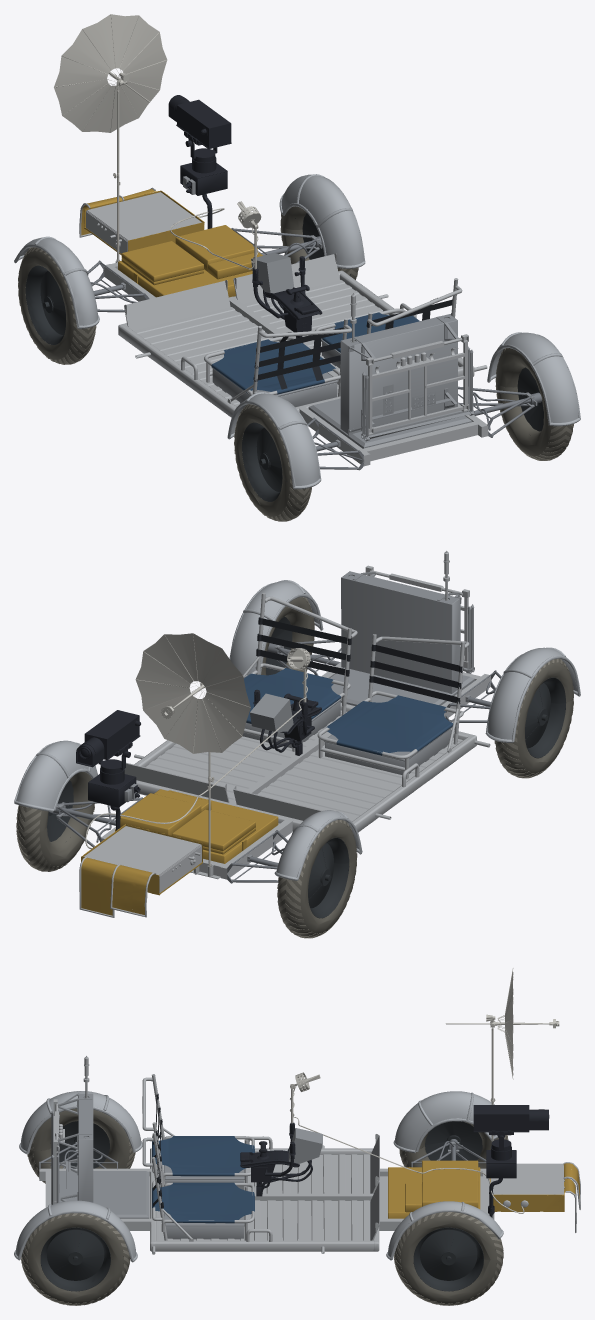
The model's file is rover.glb.
3 views of the same model, one above another, from view 1: azimuth 30°, elevation 25°; view 2: azimuth 150°, elevation 25°; view 3: azimuth 270°, elevation 25° (orthographic). The views are drawn at different scales.
Parts seen in each view (by area): view 1: Body, spin_fl, spin_rl, spin_rr, fender_fr, fender_rr, fender_rl, fender_fl, spin_fr; view 2: Body, spin_fl, spin_rl, spin_fr, fender_rl, fender_fr, fender_rr, fender_fl, spin_rr; view 3: Body, spin_fr, spin_rr, spin_rl, fender_fl, spin_fl, fender_rl, fender_rr, fender_fr.
Boxes of the visible parts, bbox=[...] form: Body: bbox=[54, 14, 541, 470]; spin_fl: bbox=[18, 247, 96, 364]; spin_rl: bbox=[234, 404, 311, 521]; spin_rr: bbox=[495, 348, 573, 460]; fender_fr: bbox=[279, 174, 365, 268]; fender_rr: bbox=[487, 332, 580, 426]; fender_rl: bbox=[227, 392, 321, 489]; fender_fl: bbox=[14, 236, 99, 328]; spin_fr: bbox=[280, 206, 358, 279]; Body: bbox=[50, 550, 501, 917]; spin_fl: bbox=[277, 820, 357, 938]; spin_rl: bbox=[494, 658, 573, 778]; spin_fr: bbox=[16, 772, 94, 871]; fender_rl: bbox=[485, 647, 580, 742]; fender_fr: bbox=[14, 740, 97, 812]; fender_rr: bbox=[229, 580, 323, 677]; fender_fl: bbox=[274, 810, 362, 880]; spin_rr: bbox=[261, 597, 314, 675]; Body: bbox=[39, 968, 580, 1254]; spin_fr: bbox=[394, 1212, 503, 1305]; spin_rr: bbox=[21, 1213, 130, 1305]; spin_rl: bbox=[27, 1108, 135, 1183]; fender_fl: bbox=[393, 1091, 497, 1152]; spin_fl: bbox=[399, 1121, 508, 1168]; fender_rl: bbox=[19, 1091, 142, 1154]; fender_rr: bbox=[14, 1200, 137, 1262]; fender_fr: bbox=[386, 1201, 503, 1260].
Size of the model in its own units: 2.19 by 2.19 by 4.34.
